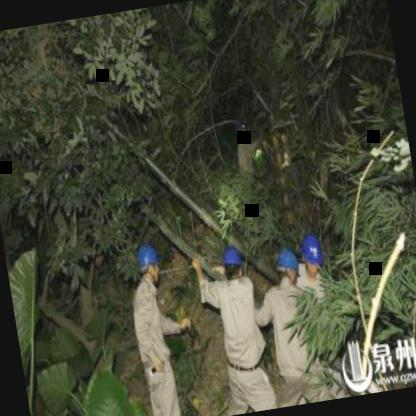helmet: (295, 230, 328, 284), (132, 240, 166, 286), (274, 245, 304, 289), (217, 245, 247, 286)
